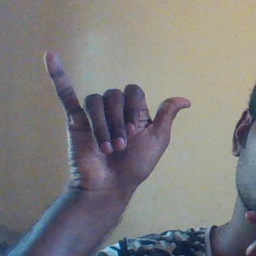J: (43, 49, 197, 194)
